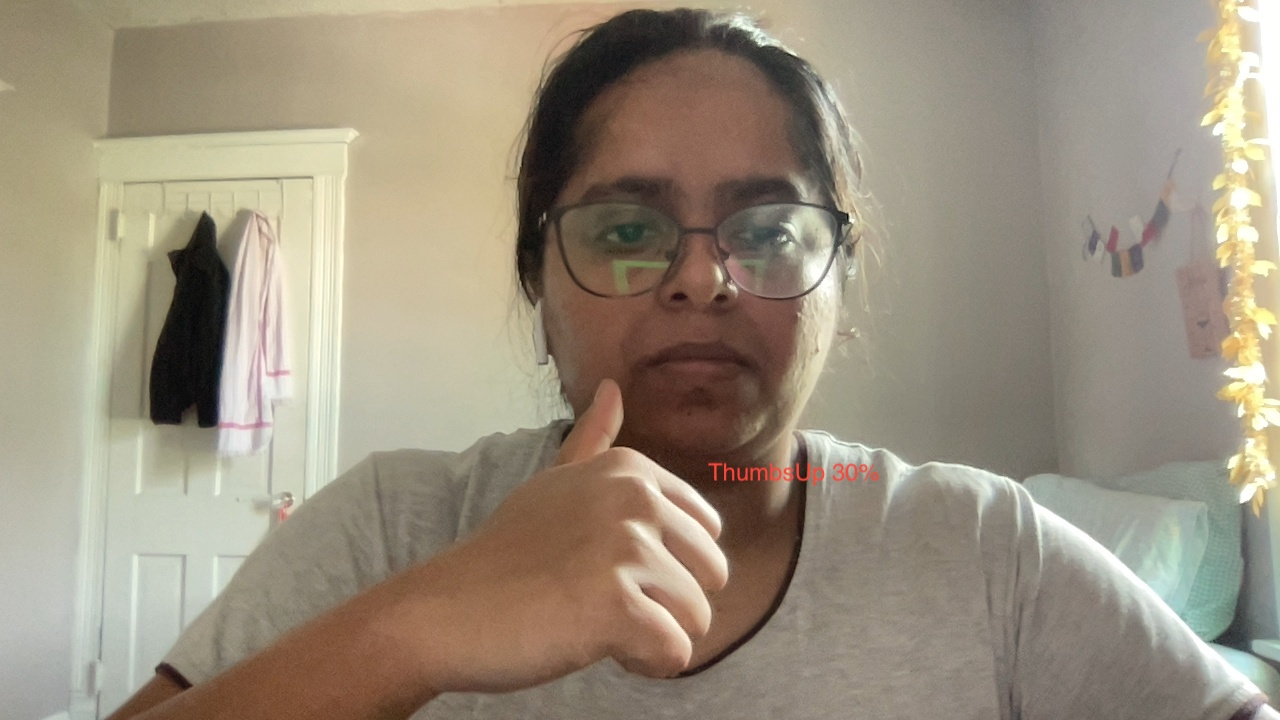ThumbsUp: (531, 380, 733, 676)
